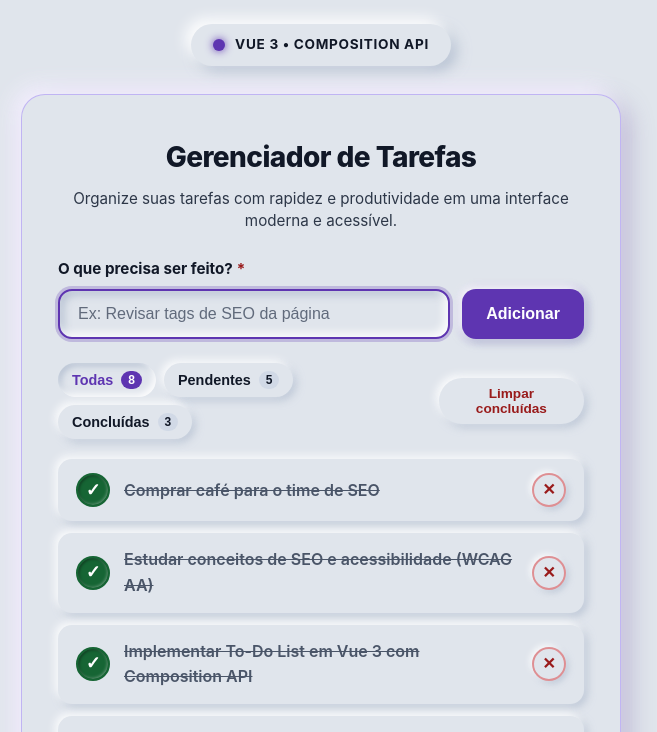
it: Integração do App To-Do (Vue 3) › permite remover uma tarefa ao clicar no botão de exclusão
This screenshot has width=657, height=732.
Step 1. Click the button with class "btn-delete" next to "Comprar café para o time de SEO" → (549, 490), box [532,474,566,508]
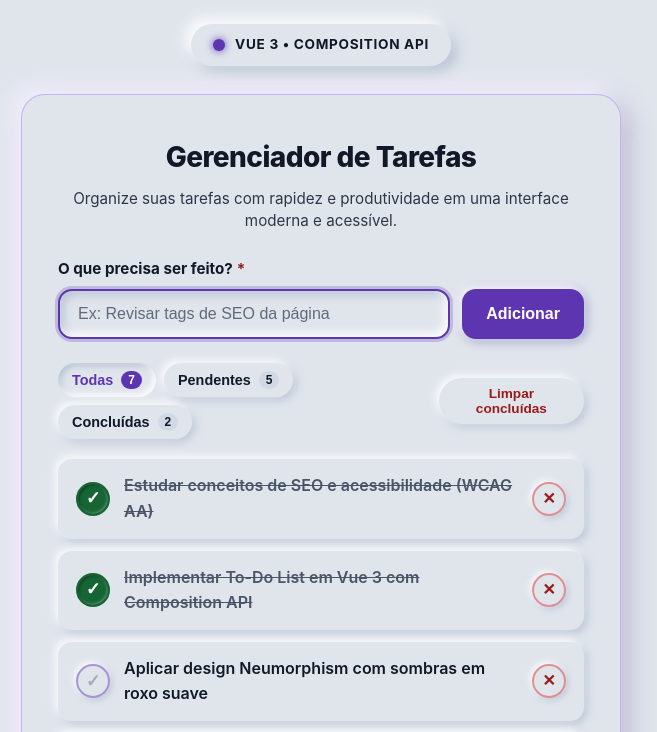
Expected: the text with class "todo-title" no longer shows "Comprar café para o time de SEO"
